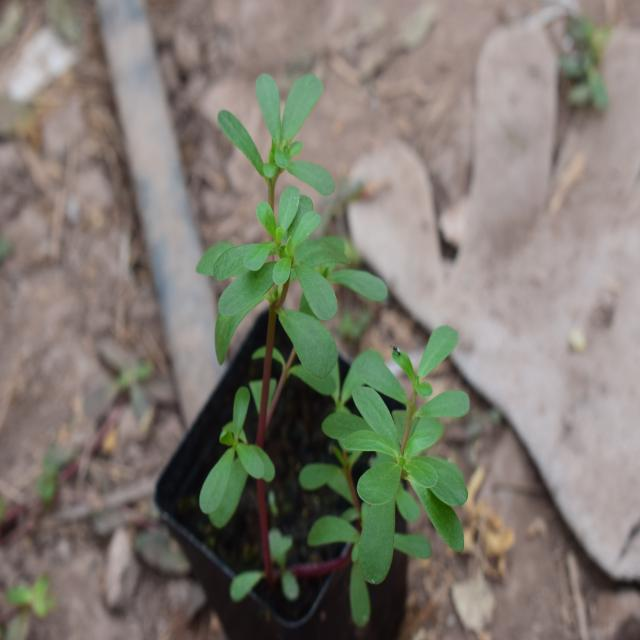purslane: (173, 49, 494, 568)
